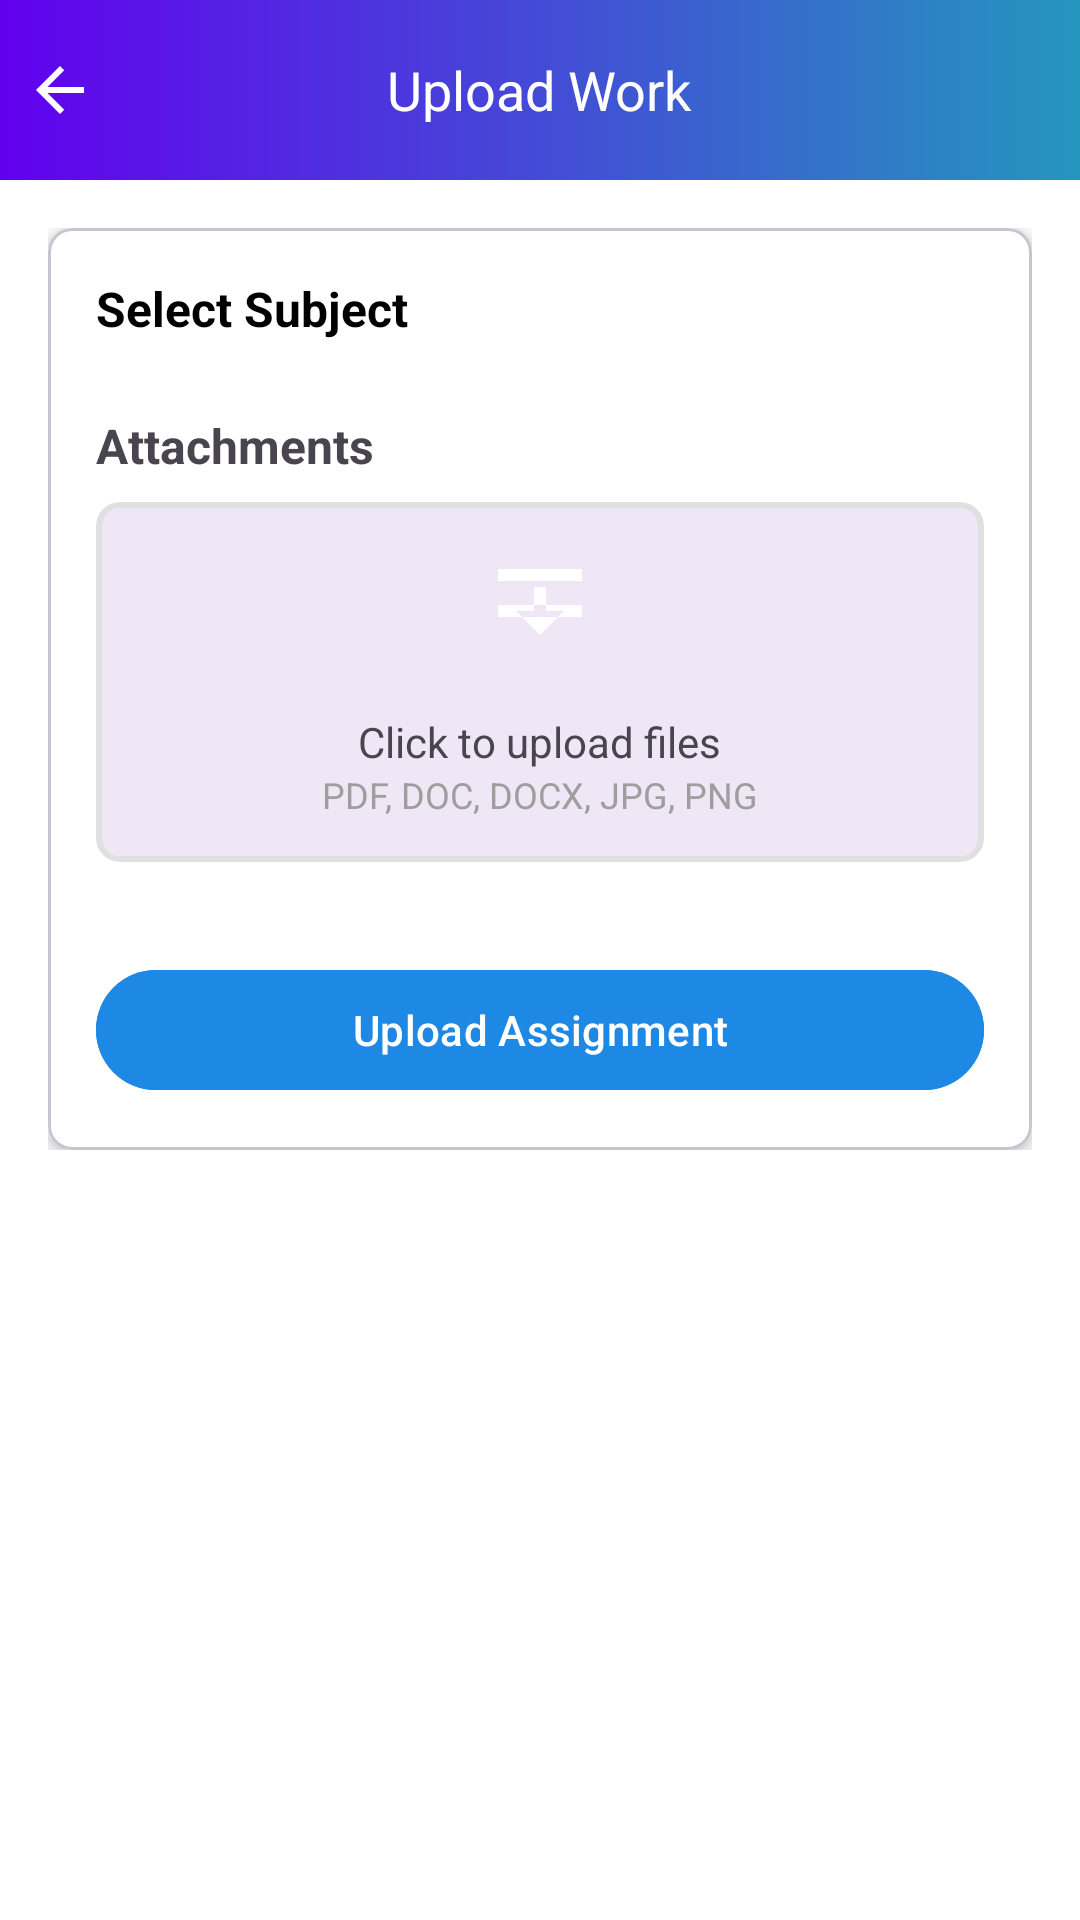

Named icons in this screenshot (1080*1920) and their centers, point (x, y):
back: point (60, 90)
